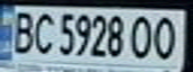2: (90, 11, 109, 58)
5: (54, 9, 75, 56)
8: (106, 11, 130, 60)
9: (72, 10, 93, 57)
B: (6, 8, 39, 55)
C: (30, 9, 57, 55)
O: (148, 12, 184, 61), (127, 12, 157, 60)
